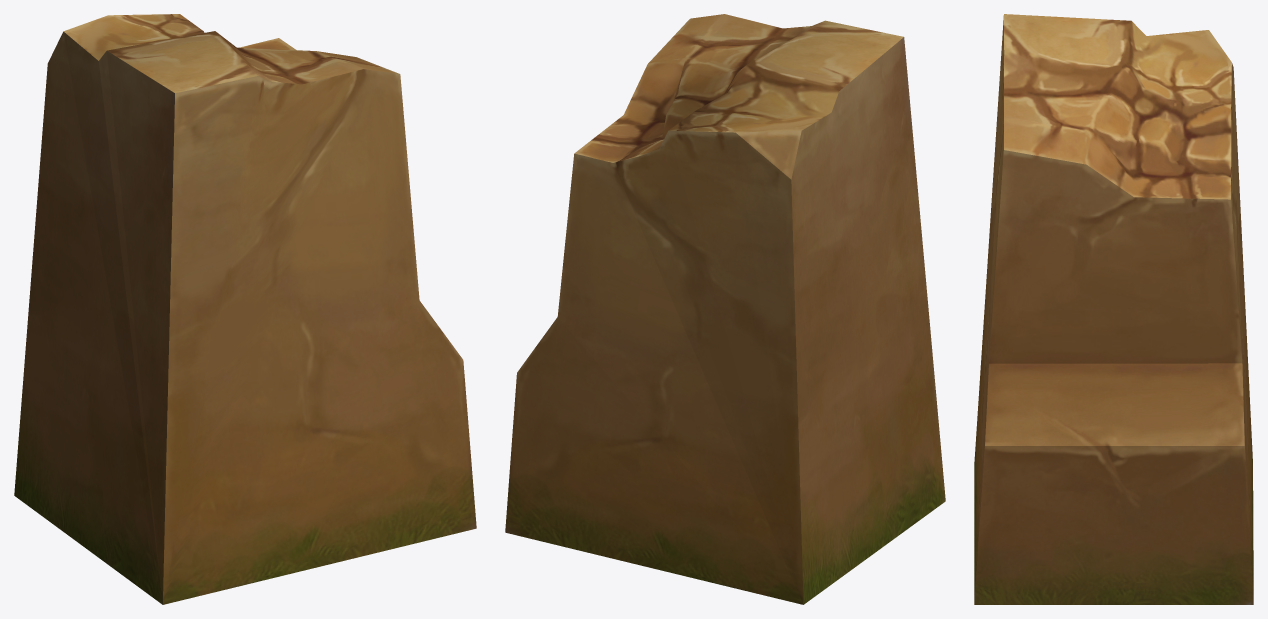
The model's file is CeShi_BFB07_CanQiang06.FBX.
3 renders of one model, left to right at view 1: azimuth 30°, elevation 25°; view 2: azimuth 150°, elevation 25°; view 3: azimuth 270°, elevation 25°, orthographic. The views are drawn at different scales.
Visible parts, largest first — view 1: CeShi_BFB07_CanQiang06; view 2: CeShi_BFB07_CanQiang06; view 3: CeShi_BFB07_CanQiang06.
Boxes of the visible parts, <box> form: CeShi_BFB07_CanQiang06: <box>14,14,476,604</box>; CeShi_BFB07_CanQiang06: <box>505,14,945,604</box>; CeShi_BFB07_CanQiang06: <box>974,14,1253,604</box>.
Size of the model in its own units: 323 by 485 by 267.
